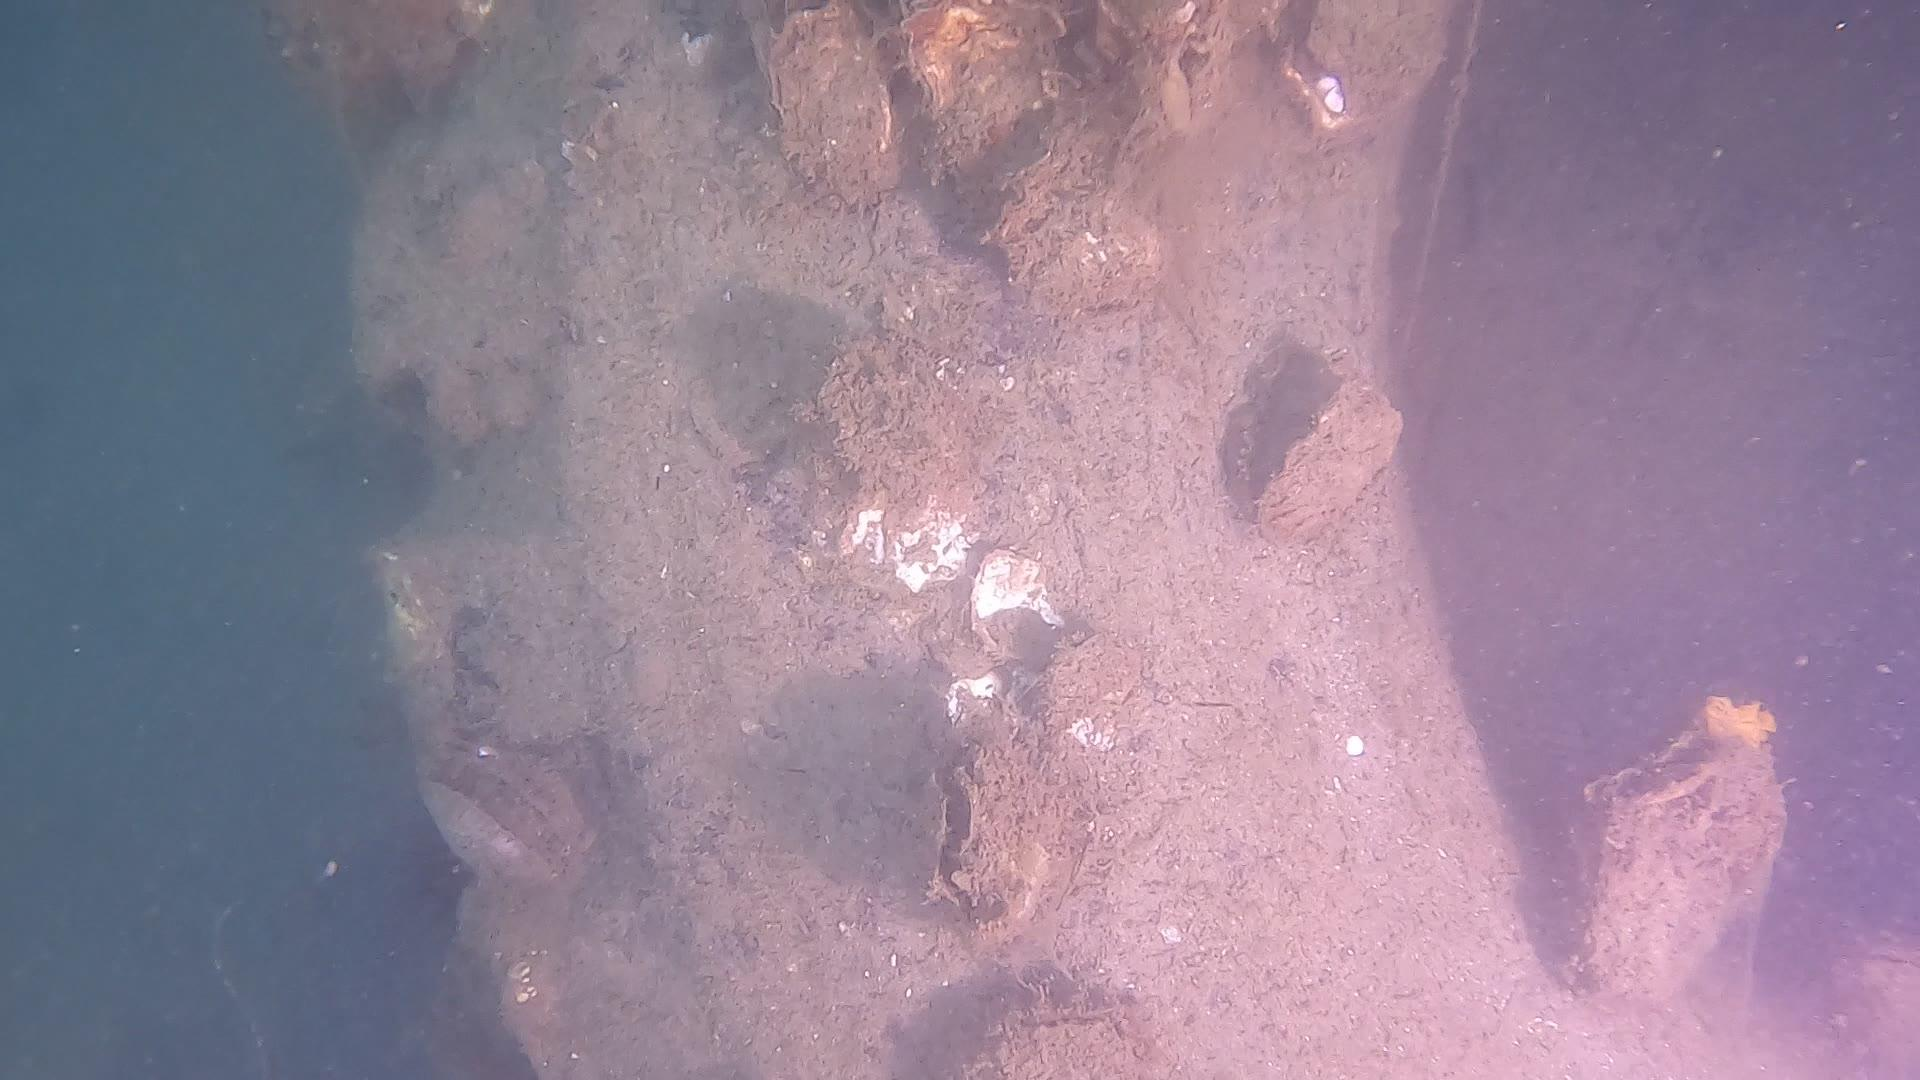tire: (342, 0, 1920, 1080)
